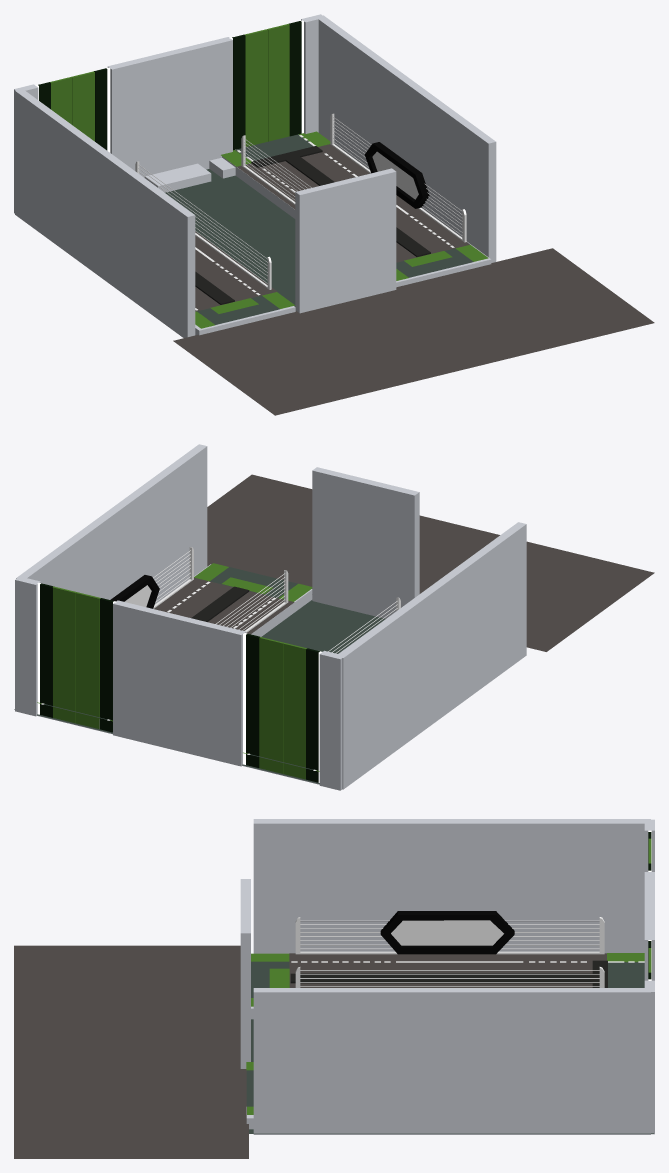
File: garage.FBX
The picture shows the model from 3 angles, top to bottom: view 1: azimuth 30°, elevation 25°; view 2: azimuth 150°, elevation 25°; view 3: azimuth 270°, elevation 25°; orthographic projection. The views are drawn at different scales.
Visible parts, largest first — view 1: wall (×19), plane (×7); view 2: wall (×18), plane (×4); view 3: wall (×9), plane (×5), Line.
Part boxes in pixels (left/top/right/bottom): wall (×19): left=15, top=14, right=496, bottom=337; plane (×7): left=165, top=134, right=654, bottom=415; wall (×18): left=15, top=444, right=526, bottom=790; plane (×4): left=14, top=474, right=654, bottom=783; wall (×9): left=240, top=819, right=654, bottom=1134; plane (×5): left=14, top=945, right=653, bottom=1158; Line: left=291, top=961, right=644, bottom=962.
Bounding box in the file's own units: 20109 × 6314 × 25553.
